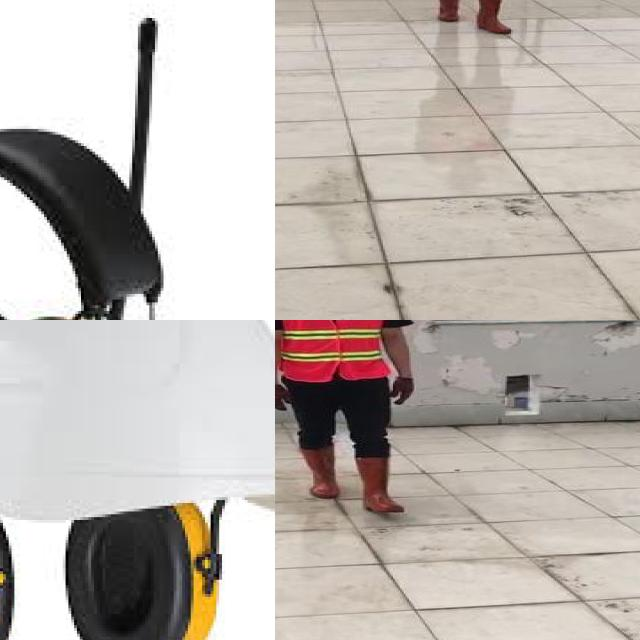boots: (352, 456, 400, 512), (302, 447, 340, 497), (477, 0, 511, 34), (434, 0, 461, 22)
hand_glove: (391, 378, 413, 404), (275, 385, 293, 411)
head_helmet: (0, 320, 275, 523)
person: (275, 320, 424, 518), (415, 0, 529, 43)
vest: (275, 320, 395, 382)
